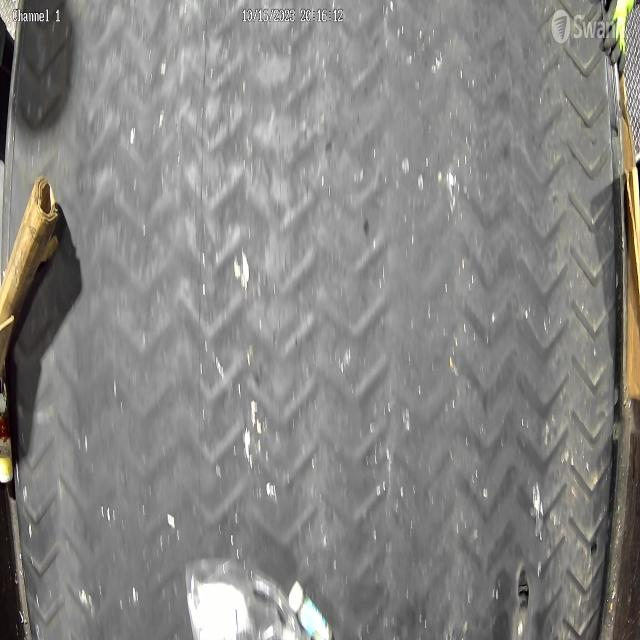non_white_jug: (184, 557, 299, 640)
plastic_bottle: (288, 578, 335, 640)
